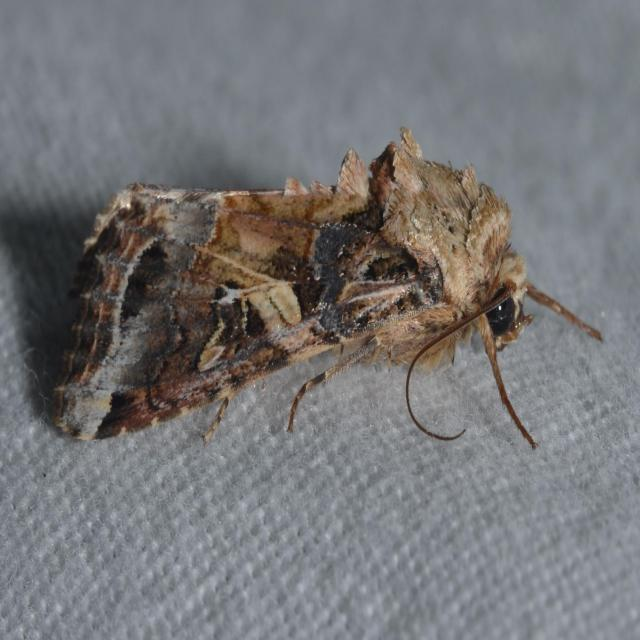armyworm: (66, 142, 556, 401)
